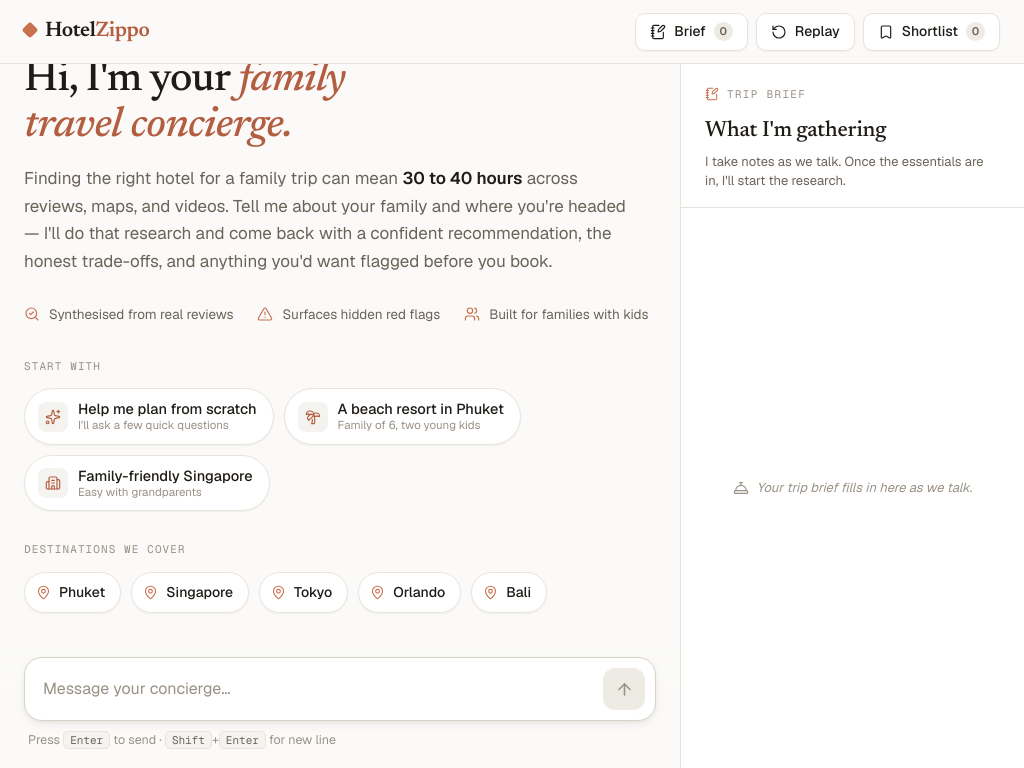
ChatShell › drives a scripted assistant turn from the injected mock stream
(page scrolled)
Type "Hi there" into the text box labelled "Message your concierge…" at (318,689), box [43,668,593,710]
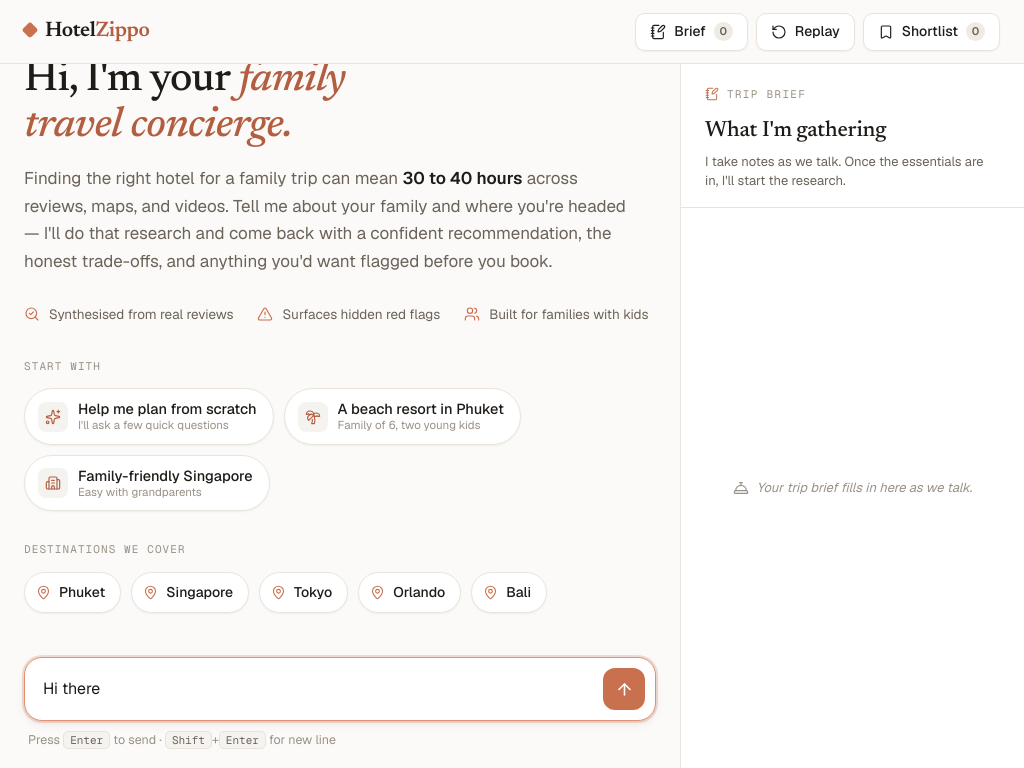
Press Enter
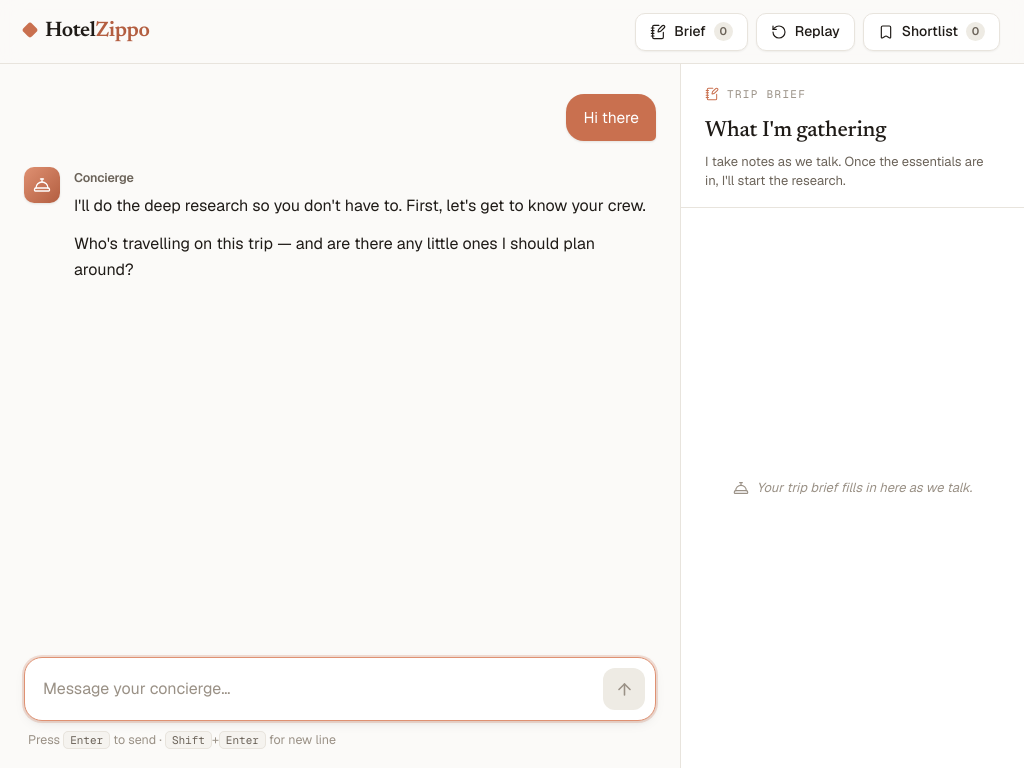
Expected: the text "Concierge" is shown, [74,169,134,186]
Expected: the text "Hi there" is shown, [566,94,656,141]
